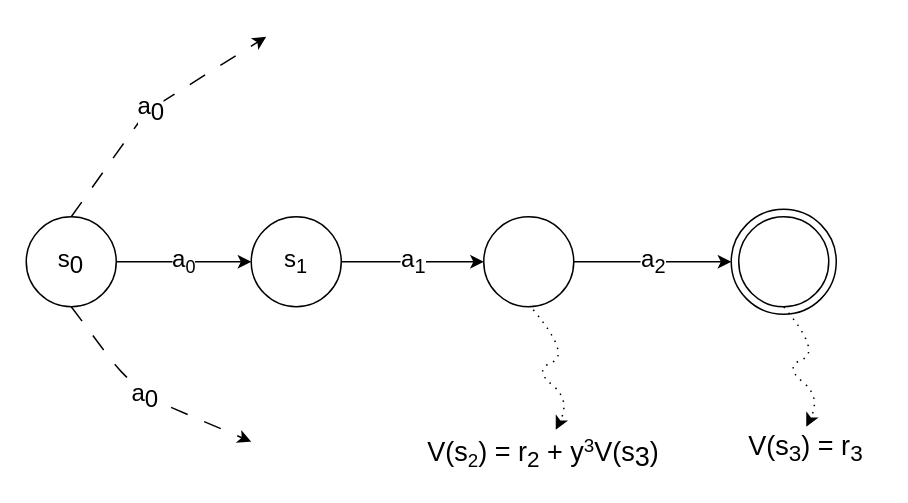
This 908x503 diagram has some shape labels left out. The shapes that lost their labels are listed below. From the top down, each one's centre as x and y in pixels, then its label:
point 528,261: s 2
point 783,261: s 3
